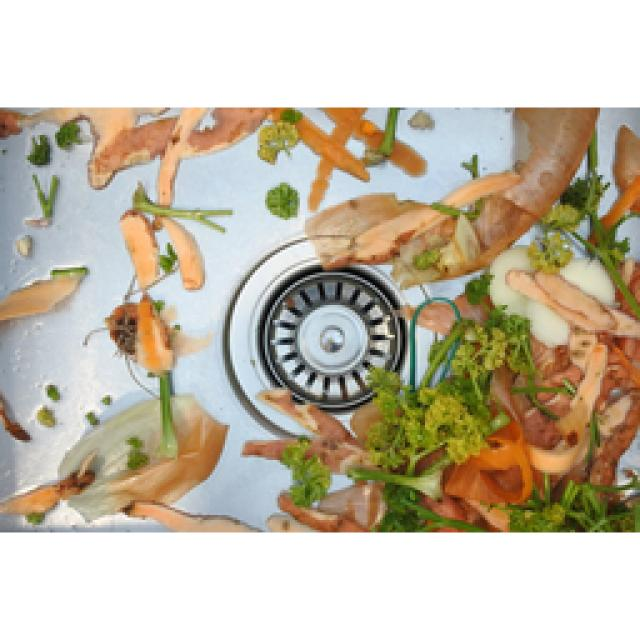food_waste: (242, 108, 638, 530), (0, 155, 248, 530), (38, 108, 288, 202), (295, 108, 380, 208), (0, 270, 82, 318), (390, 142, 422, 172)
